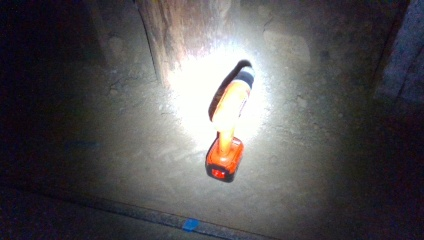drill: (205, 57, 253, 182)
